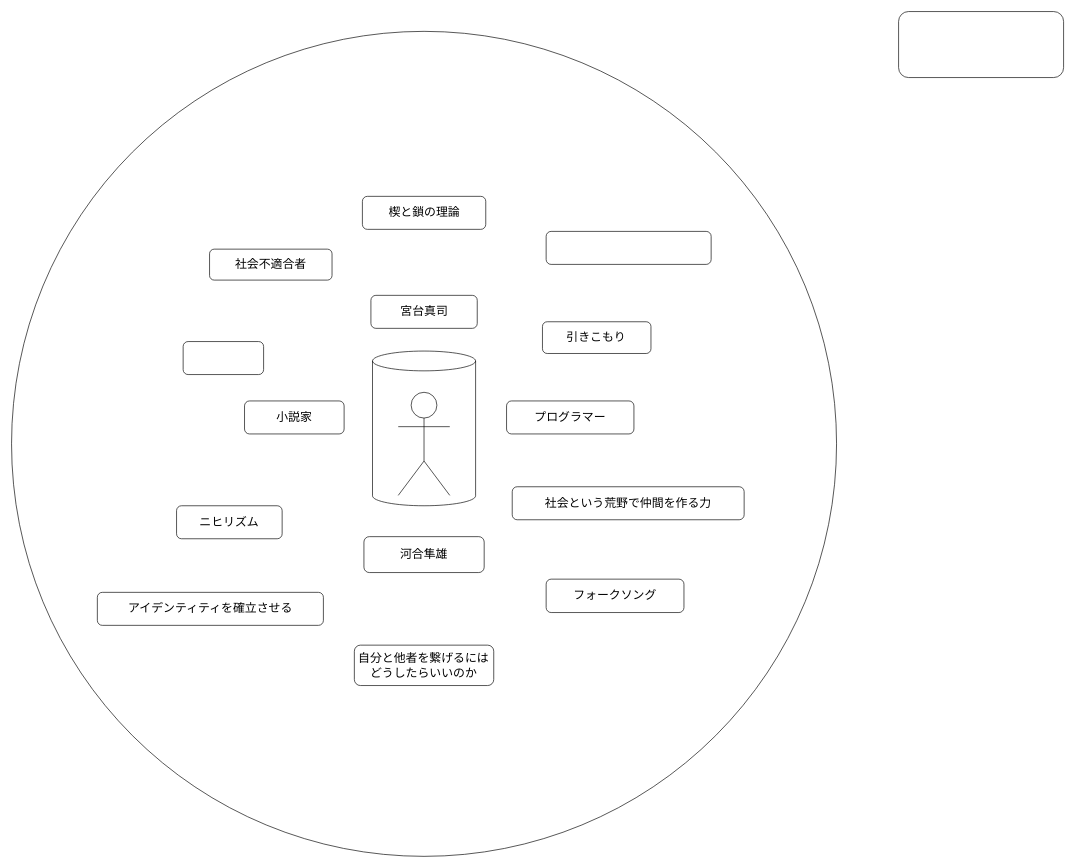
Some shapes in this 1075 by 868 pixel diagram are drawn without their labels. Here are the shapes that lost their labels. From the top down, the box of each, then its label:
(898, 11, 1064, 78): 曼荼羅を使って アイデンティティを 開発しよう
(545, 231, 711, 264): コンステレーション
(182, 341, 264, 375): 童貞
(398, 392, 450, 495): Actor
